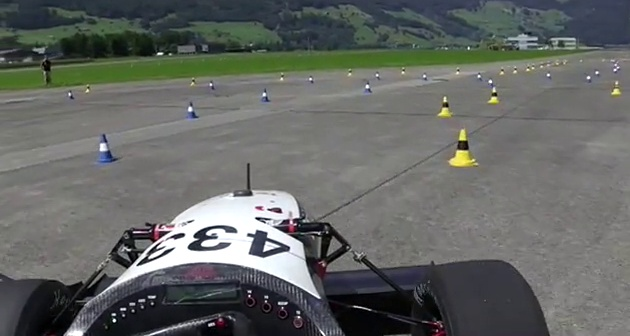Cone: (446, 127, 480, 169), (94, 133, 119, 165), (435, 94, 456, 117), (487, 85, 503, 105), (185, 101, 201, 119), (609, 80, 623, 97), (363, 80, 375, 95), (260, 87, 272, 101)
